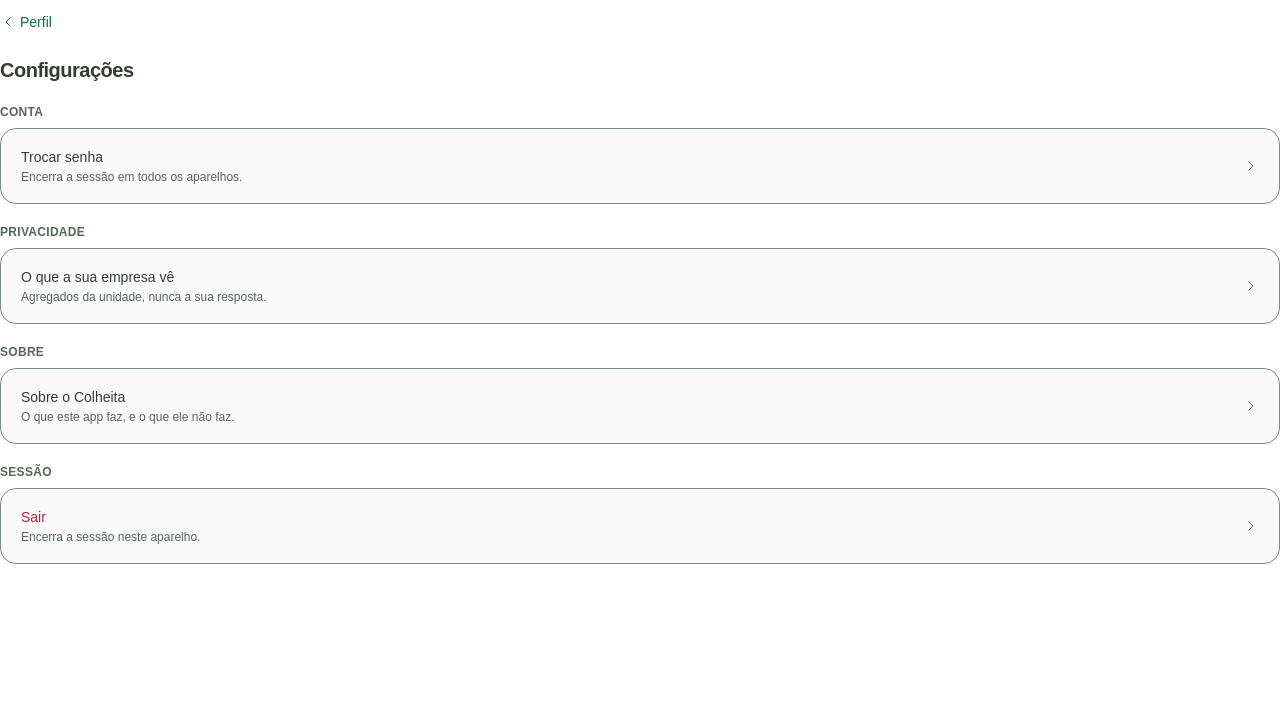
Test: SettingsView › asks before signing out and keeps the session when told to stay
Step 1. Click the button "Sair Encerra a sessão neste aparelho." → [111, 537], box 9,497 -> 1271,555
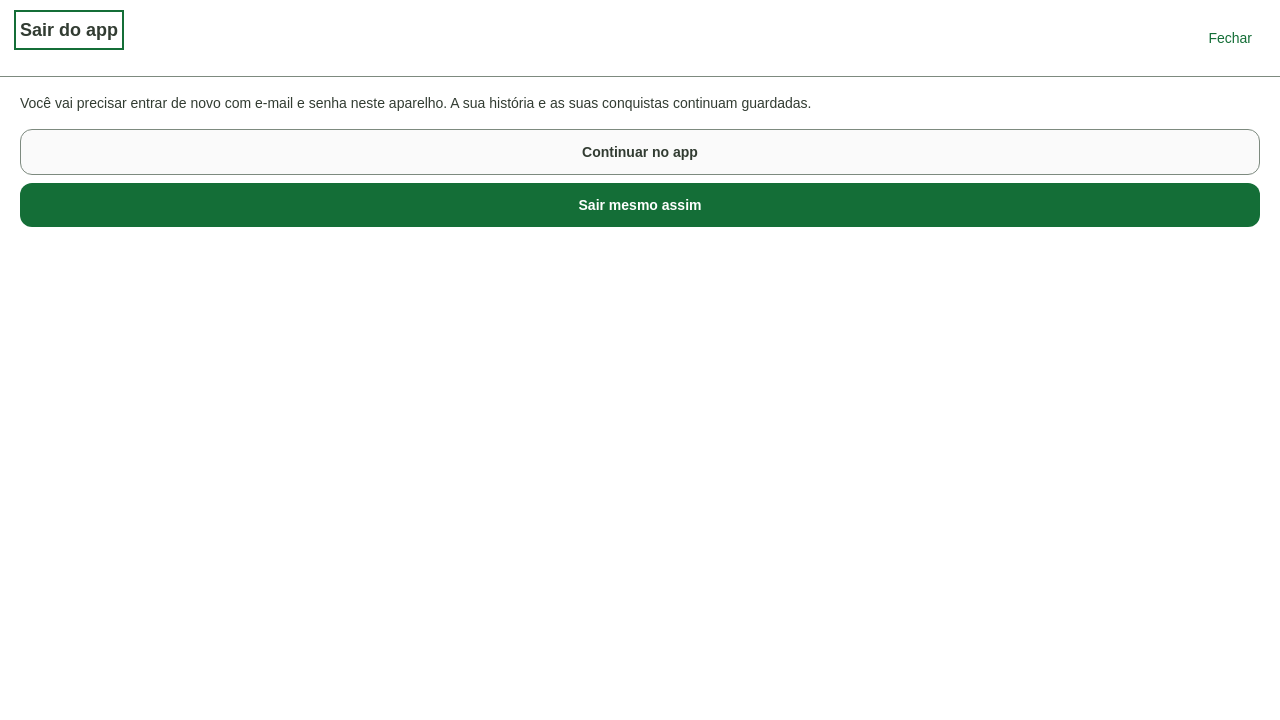
Step 2. Click the button "Continuar no app" → [640, 152], box 20,129 -> 1260,175
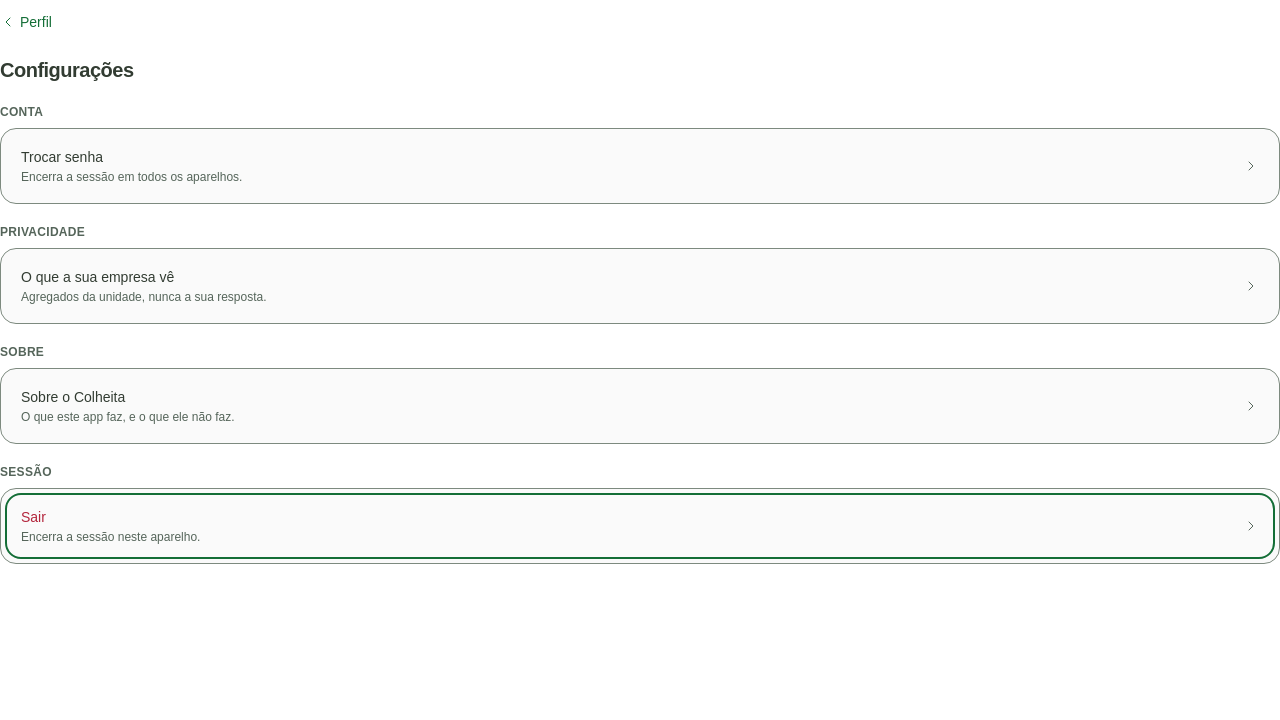
Result: the dialog is gone
